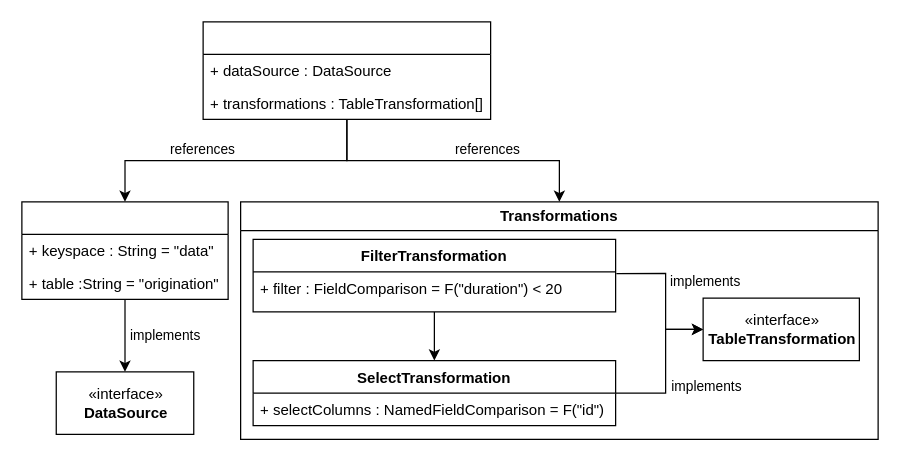
This 900x461 diagram has some shape labels left out. The box of each missing label's shape, as (x1, y1, x2, y2) in pixels:
CassandraDataSource: (21, 201, 228, 299)
Output Table: (202, 21, 491, 119)
